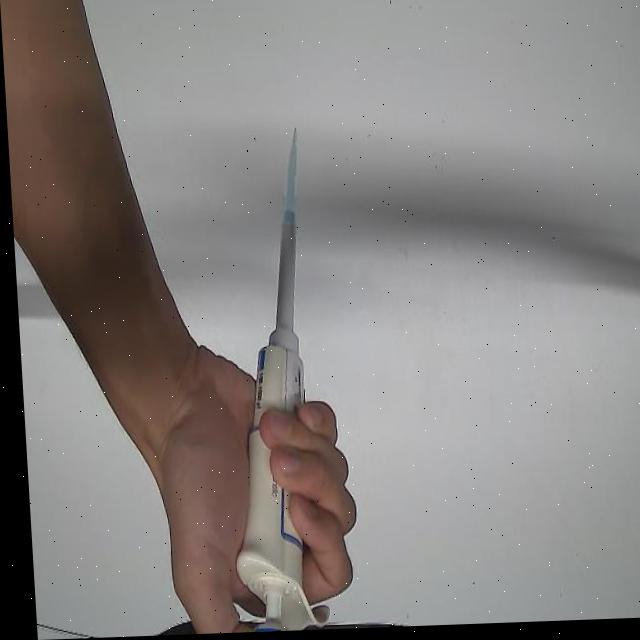Single Channel Pipettor: (208, 208, 335, 633)
